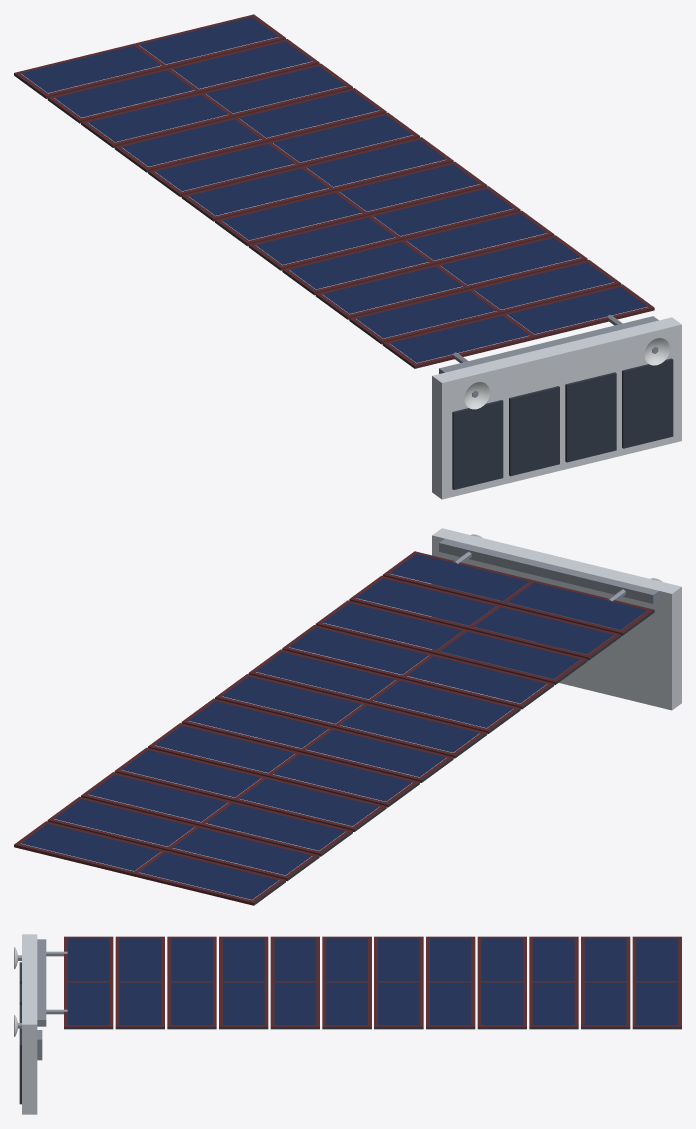
The model's file is starlink-v1.glb.
The picture shows the model from 3 angles, top to bottom: view 1: azimuth 30°, elevation 25°; view 2: azimuth 150°, elevation 25°; view 3: azimuth 270°, elevation 25°; orthographic projection. The views are drawn at different scales.
Visible parts, largest first — view 1: solar-panel, body; view 2: solar-panel, body; view 3: solar-panel, body.
Part boxes in pixels (x1,y1,x2,y2): solar-panel: [21, 17, 647, 362]; body: [14, 14, 681, 499]; solar-panel: [21, 554, 647, 899]; body: [14, 528, 681, 905]; solar-panel: [67, 938, 678, 1025]; body: [14, 934, 681, 1114].
Bounding box in the file's own units: 2.8 × 1.3 × 8.76.
